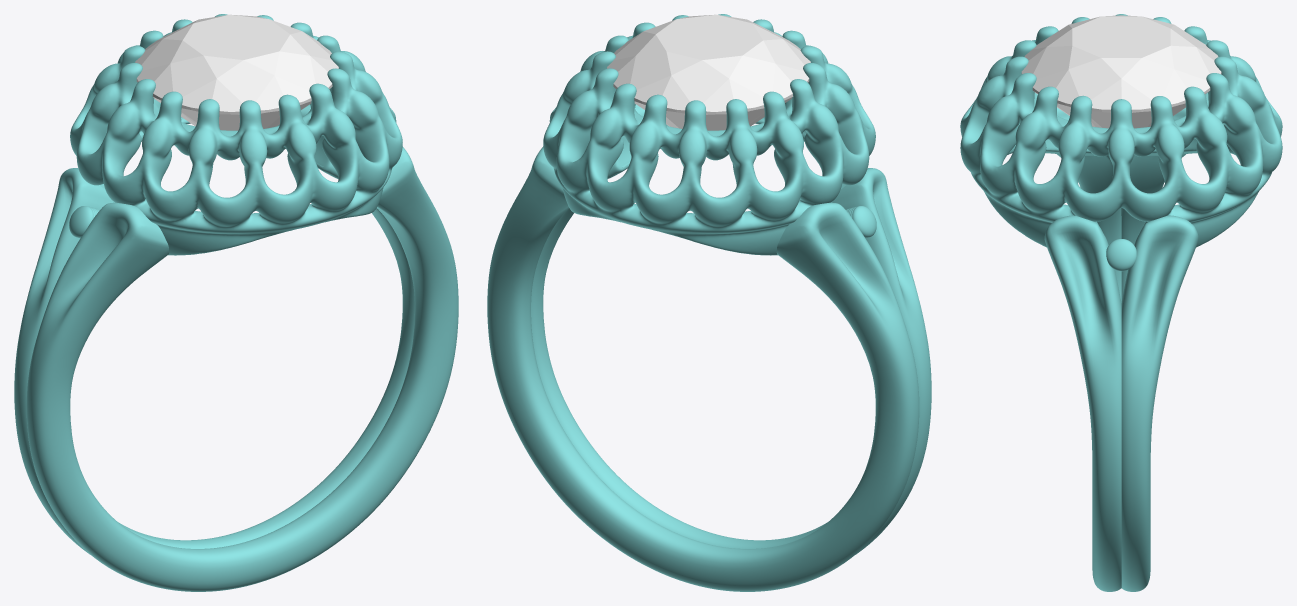
3 views of the same model, side by side, from view 1: azimuth 30°, elevation 25°; view 2: azimuth 150°, elevation 25°; view 3: azimuth 270°, elevation 25° (orthographic).
Parts seen in each view (by area): view 1: Round Antique Ring-Render-Ijewel.3dm, Diamond_Round; view 2: Round Antique Ring-Render-Ijewel.3dm, Diamond_Round; view 3: Round Antique Ring-Render-Ijewel.3dm, Diamond_Round.
Part boxes in pixels (box(x1,y1,x2,y2)): Round Antique Ring-Render-Ijewel.3dm: box(14, 14, 458, 591); Diamond_Round: box(135, 14, 338, 130); Round Antique Ring-Render-Ijewel.3dm: box(487, 14, 931, 591); Diamond_Round: box(607, 14, 810, 130); Round Antique Ring-Render-Ijewel.3dm: box(960, 14, 1282, 591); Diamond_Round: box(1021, 15, 1221, 128).
Size of the model in its own units: 2.34 by 2.85 by 1.56.
